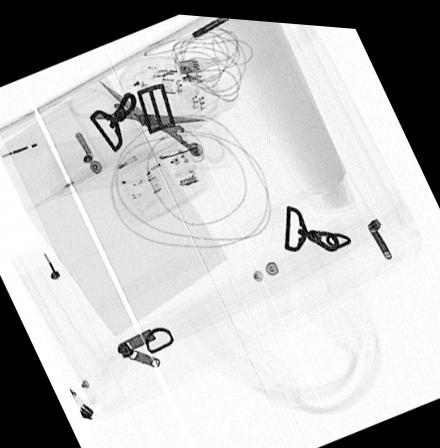Scissors: (65, 78, 227, 162)
